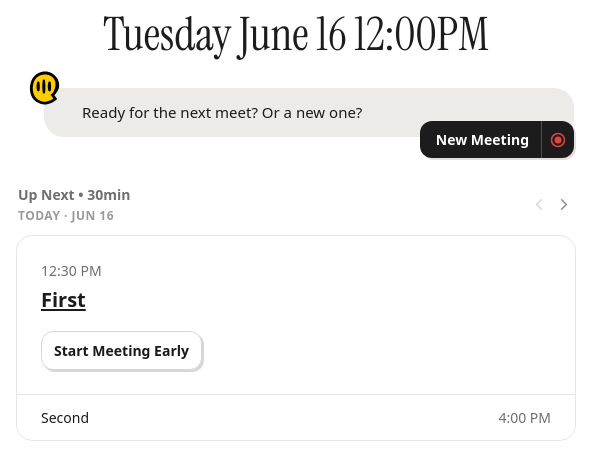
it: UpNextCard › pages between upcoming meetings with the chevrons
Expected: the button with class "head-title" reads "First", [41,285,86,315]
Click the button named "Next meeting" at (563,205), box [552,194,574,216]
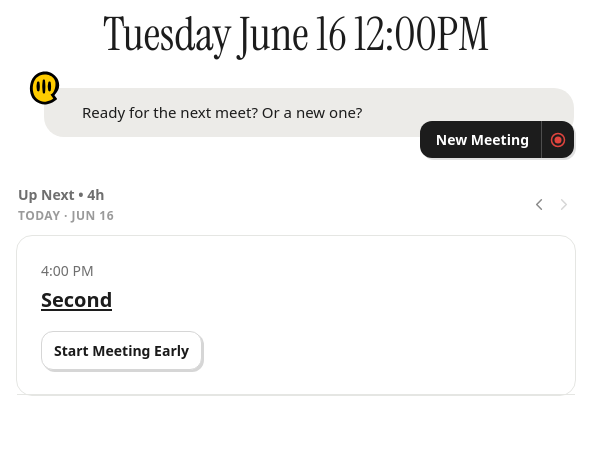
Result: the button with class "head-title" reads "Second" at [41,285,112,315]
